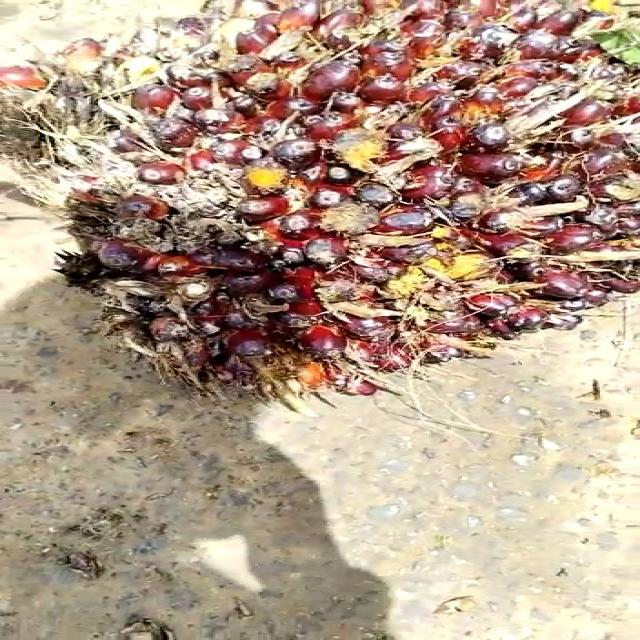palm oil: (0, 0, 640, 398)
